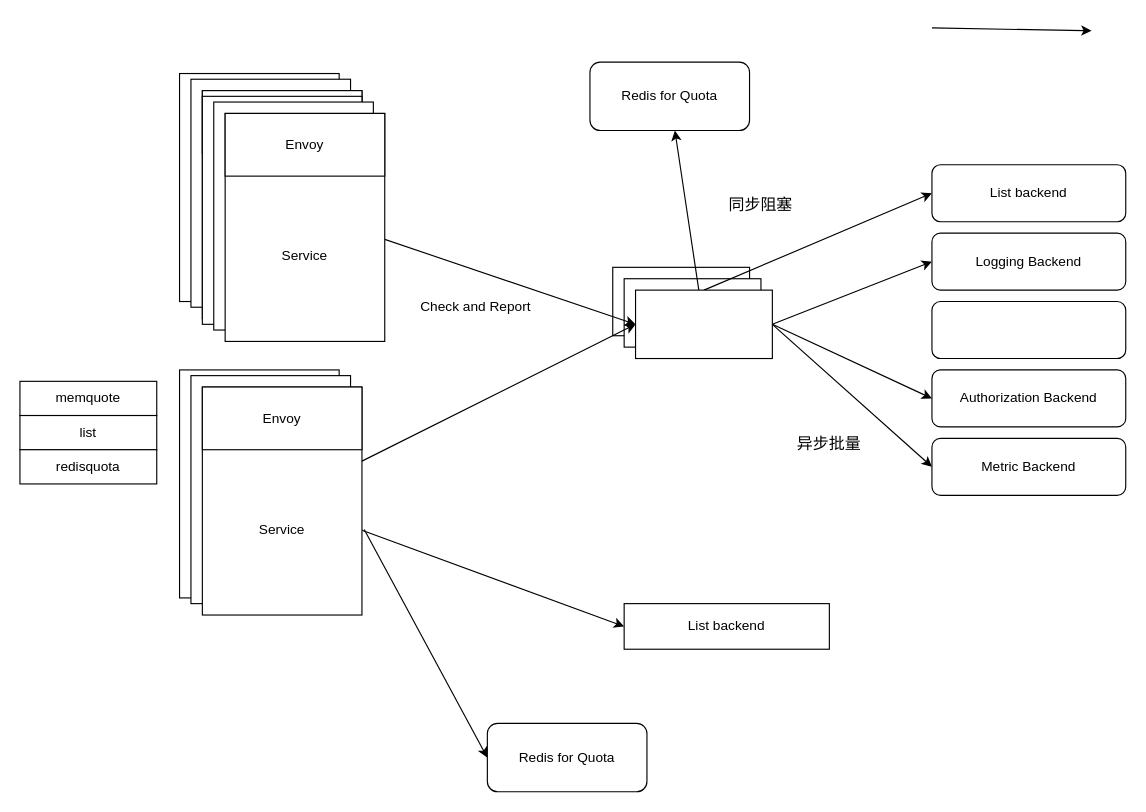
Image size: 1146x812. Some labels were removed from this diagram. The box of each missing label's shape, as (x1, y1, x2, y2) in pixels:
Mixer: (634, 289, 772, 359)
Quota Backend: (931, 300, 1126, 359)
